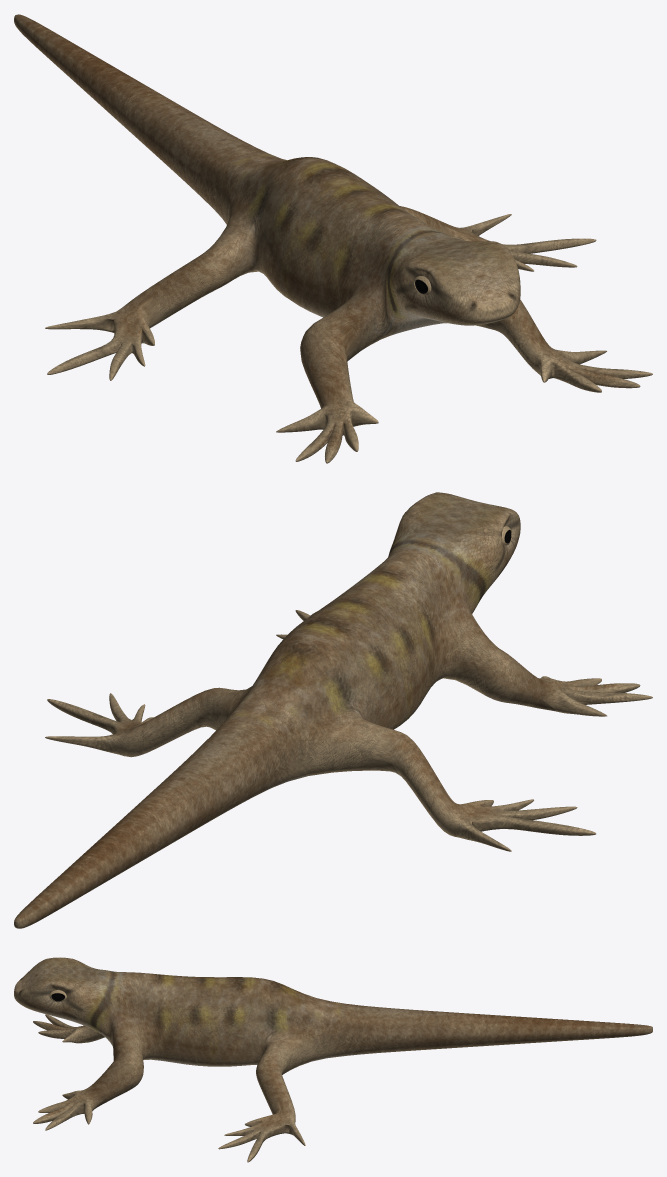
File: Lagartija espinosa del mezquite.glb
3 views of the same model, one above another, from view 1: azimuth 30°, elevation 25°; view 2: azimuth 150°, elevation 25°; view 3: azimuth 270°, elevation 25° (orthographic). The views are drawn at different scales.
Parts seen in each view (by area): view 1: Sceloporus grammicus; view 2: Sceloporus grammicus; view 3: Sceloporus grammicus.
Part boxes in pixels (bbox=[...]): Sceloporus grammicus: bbox=[14, 14, 652, 463]; Sceloporus grammicus: bbox=[14, 492, 652, 928]; Sceloporus grammicus: bbox=[14, 957, 652, 1162].
Size of the model in its own units: 6.85 by 1.95 by 10.41.
2 materials, 2 textured.
